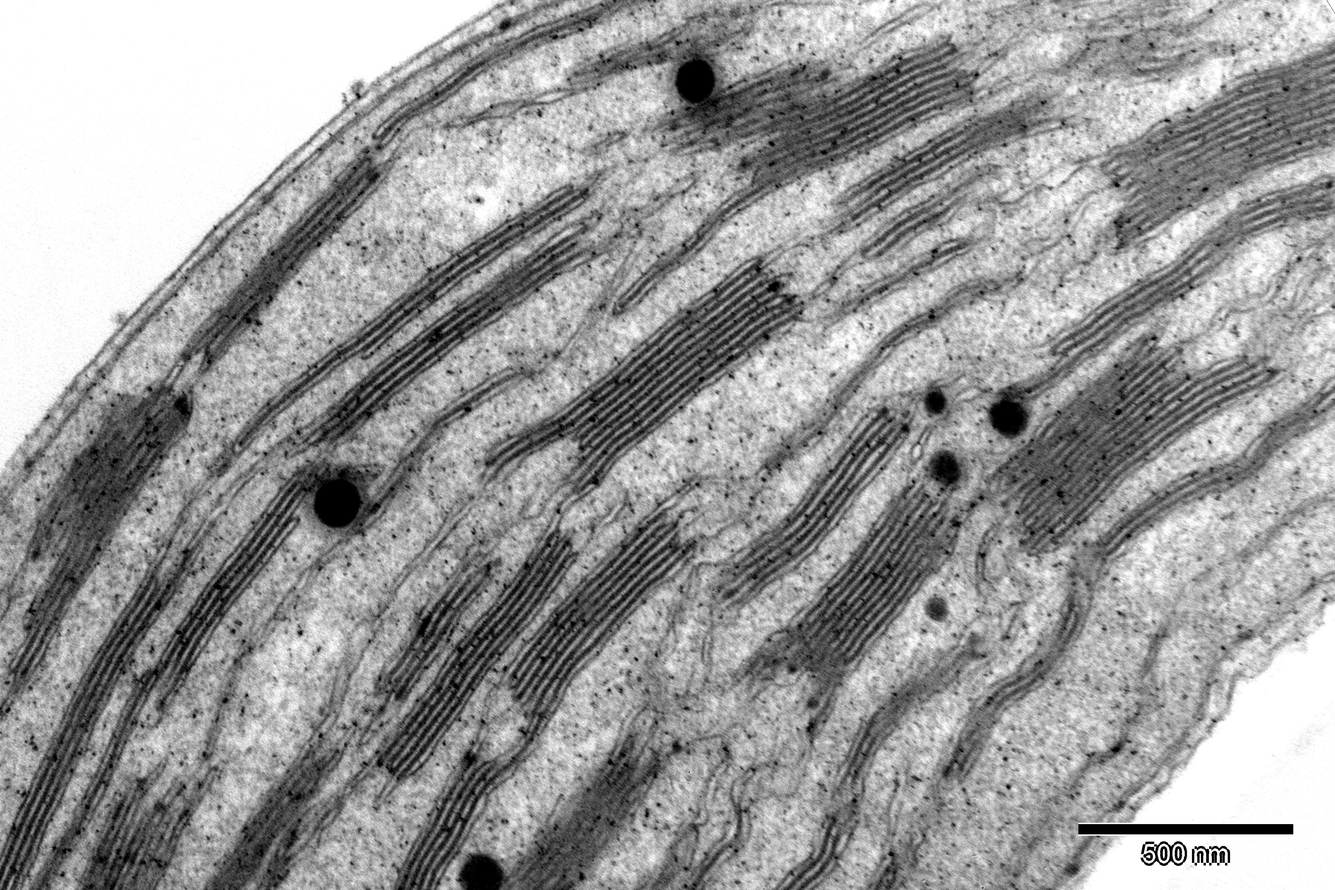granum: (477, 253, 810, 506), (289, 212, 606, 459), (980, 332, 1296, 554), (730, 472, 974, 731), (3, 376, 200, 689), (636, 27, 984, 203), (1043, 167, 1335, 372), (366, 521, 582, 789), (0, 570, 179, 890), (1089, 35, 1335, 259), (1087, 368, 1335, 572), (496, 496, 702, 741), (697, 401, 913, 628), (180, 143, 393, 370), (141, 456, 336, 703), (347, 179, 591, 363), (929, 567, 1100, 789), (824, 80, 1069, 233), (823, 625, 991, 810), (492, 722, 667, 889), (369, 535, 504, 709), (72, 747, 227, 890), (197, 740, 339, 890), (390, 742, 521, 890), (558, 27, 687, 100), (1100, 15, 1220, 92), (764, 813, 859, 889), (668, 816, 754, 890)
